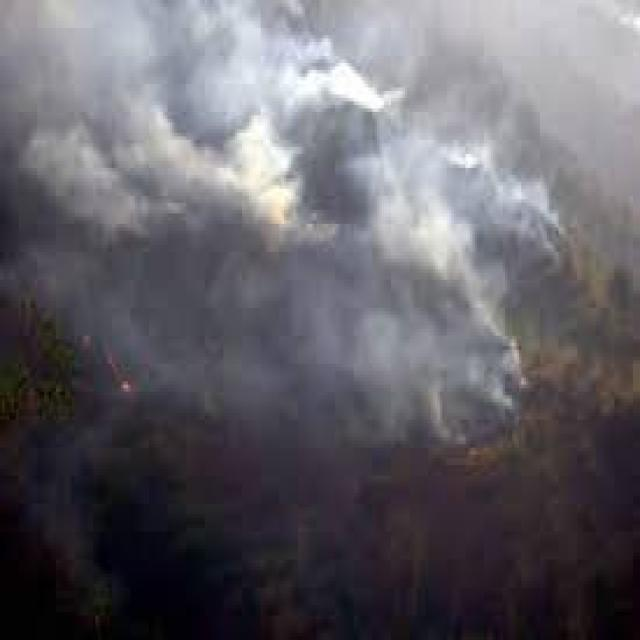Smoke: (38, 6, 270, 372), (286, 65, 515, 412)
